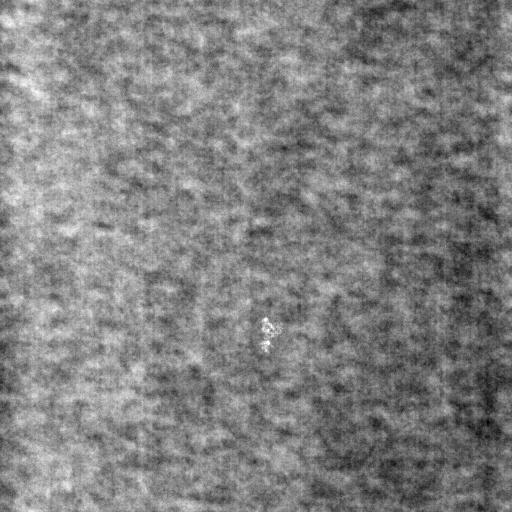DefectTypeA: (256, 311, 288, 357)
